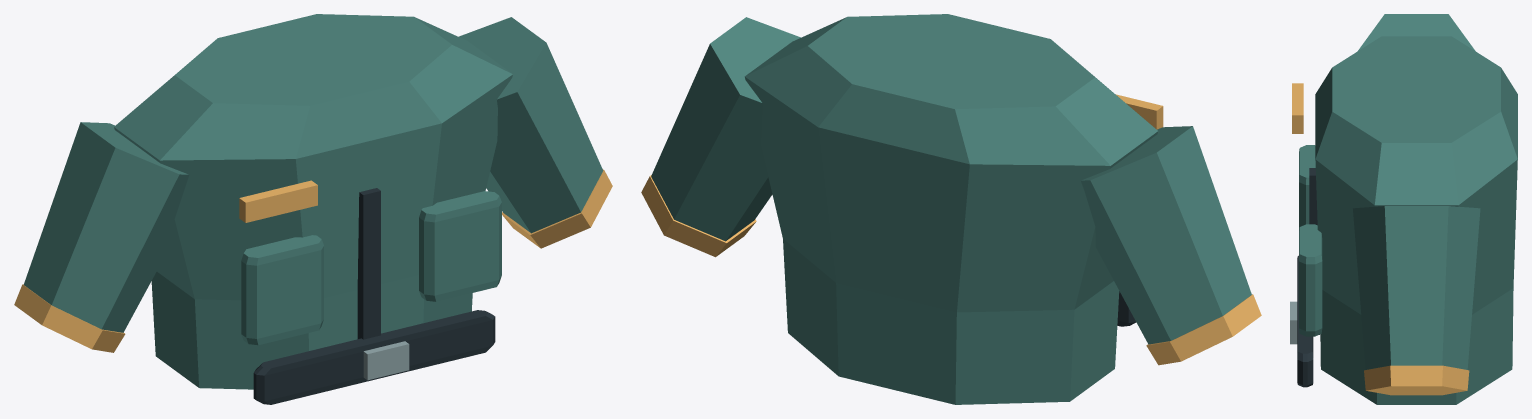
File: SM_NPC_TOP_001_WorkJacket.glb
3 renders of one model, left to right at view 1: azimuth 30°, elevation 25°; view 2: azimuth 150°, elevation 25°; view 3: azimuth 270°, elevation 25°, orthographic. The views are drawn at different scales.
Parts seen in each view (by area): view 1: SM_NPC_TOP_001_WorkJacket; view 2: SM_NPC_TOP_001_WorkJacket; view 3: SM_NPC_TOP_001_WorkJacket.
Part boxes in pixels (x1,y1,x2,y2): SM_NPC_TOP_001_WorkJacket: (14,14,612,404); SM_NPC_TOP_001_WorkJacket: (641,14,1261,404); SM_NPC_TOP_001_WorkJacket: (1290,14,1517,404).
Size of the model in its own units: 1.03 by 0.48 by 0.3888.
